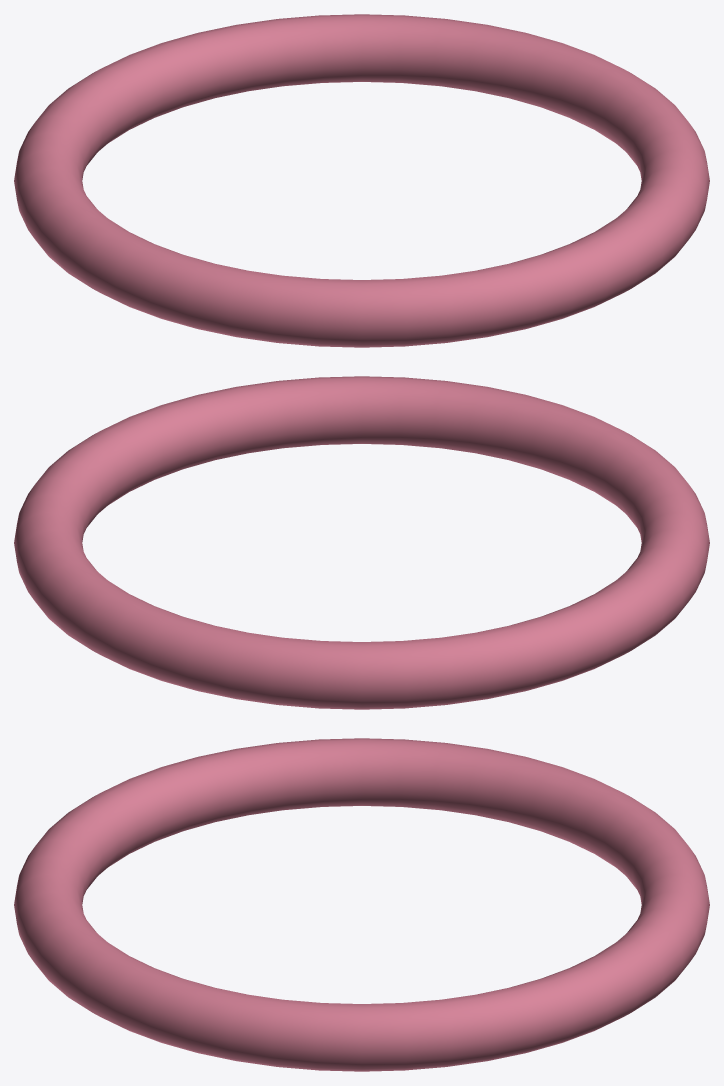
Rendered from Donut.fbx.
3 renders of one model, top to bottom at view 1: azimuth 30°, elevation 25°; view 2: azimuth 150°, elevation 25°; view 3: azimuth 270°, elevation 25°, orthographic.
Visible parts, largest first — view 1: Torus; view 2: Torus; view 3: Torus.
Part boxes in pixels (x1,y1,x2,y2): Torus: (14,14,709,347); Torus: (14,376,709,709); Torus: (14,738,709,1071).
Size of the model in its own units: 6.34 by 0.6174 by 6.34.
